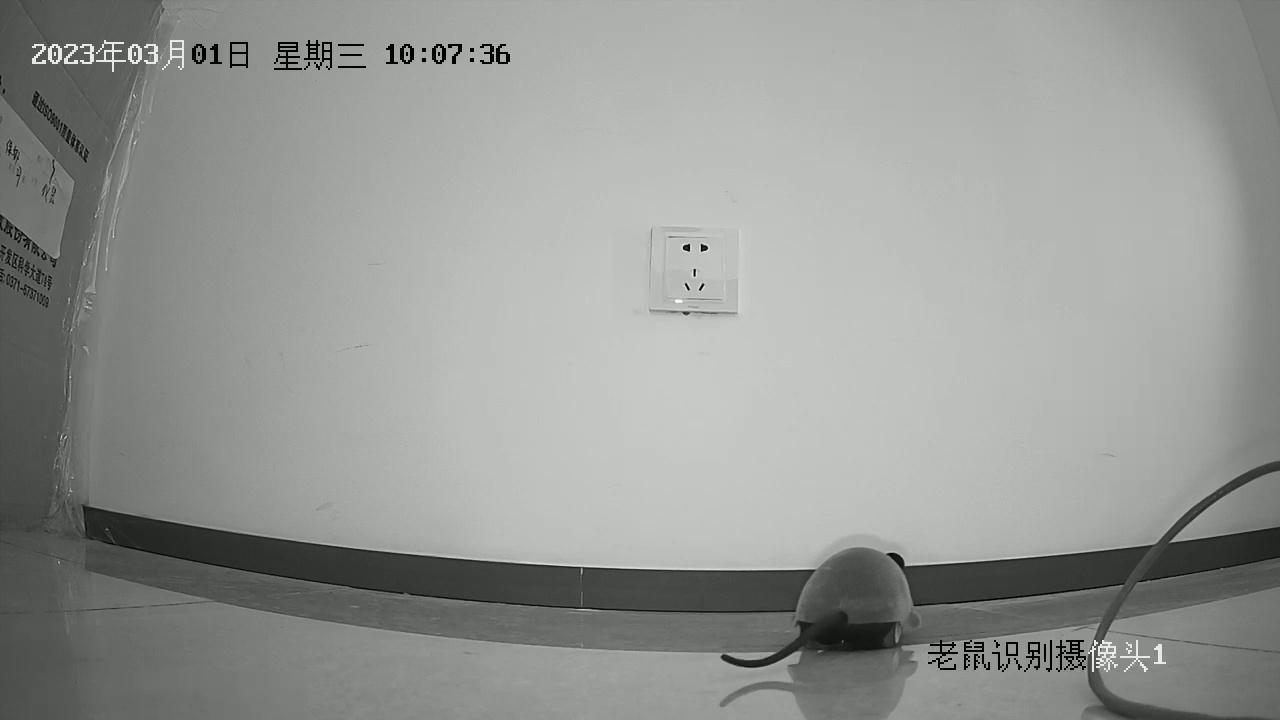rat: (720, 547, 923, 669)
